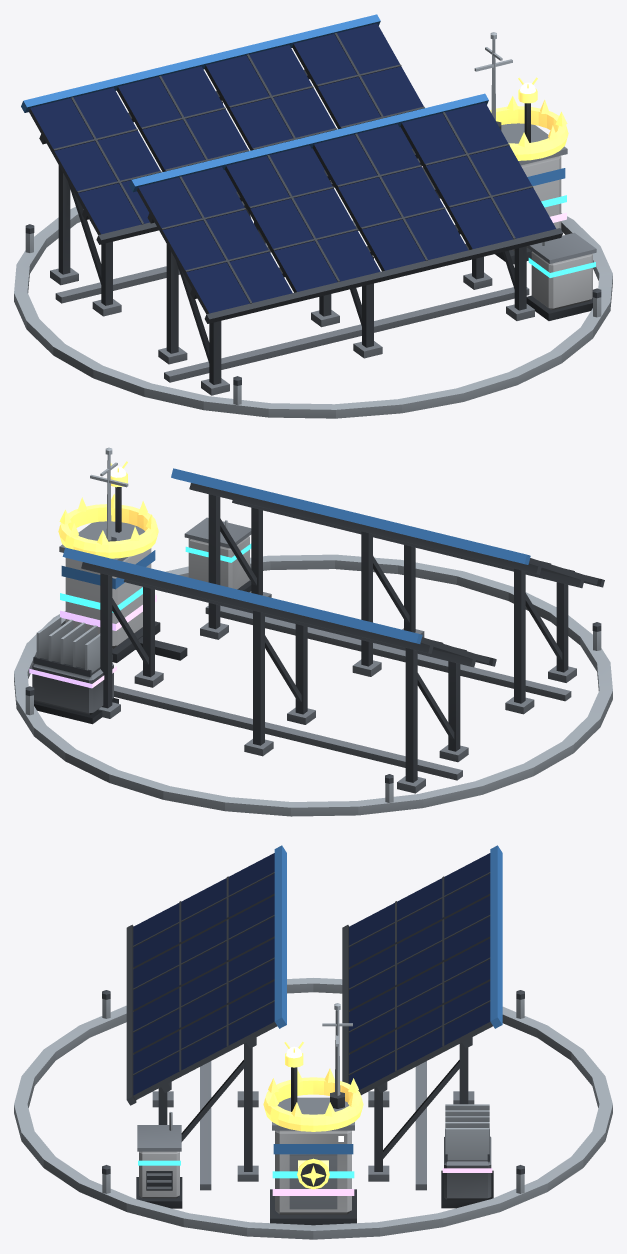
File: solar_array.glb
3 renders of one model, top to bottom at view 1: azimuth 30°, elevation 25°; view 2: azimuth 150°, elevation 25°; view 3: azimuth 270°, elevation 25°, orthographic.
Visible parts, largest first — view 1: Base, L2, L3, L5; view 2: Base, L2, L4, L5, L3; view 3: Base, L2, L4, L5, L3.
Part boxes in pixels (<box>): Base: <box>21,14,567,395</box>; L2: <box>14,32,612,418</box>; L3: <box>526,195,596,320</box>; L5: <box>490,77,568,160</box>; Base: <box>59,468,604,793</box>; L2: <box>14,447,612,816</box>; L4: <box>29,594,156,724</box>; L5: <box>58,461,158,558</box>; L3: <box>60,517,251,612</box>; Base: <box>126,845,502,1225</box>; L2: <box>14,978,612,1239</box>; L4: <box>272,1104,493,1208</box>; L5: <box>263,1041,363,1189</box>; L3: <box>136,1112,354,1208</box>.
Bounding box in the file's own units: 6.22 × 2.34 × 6.22.
